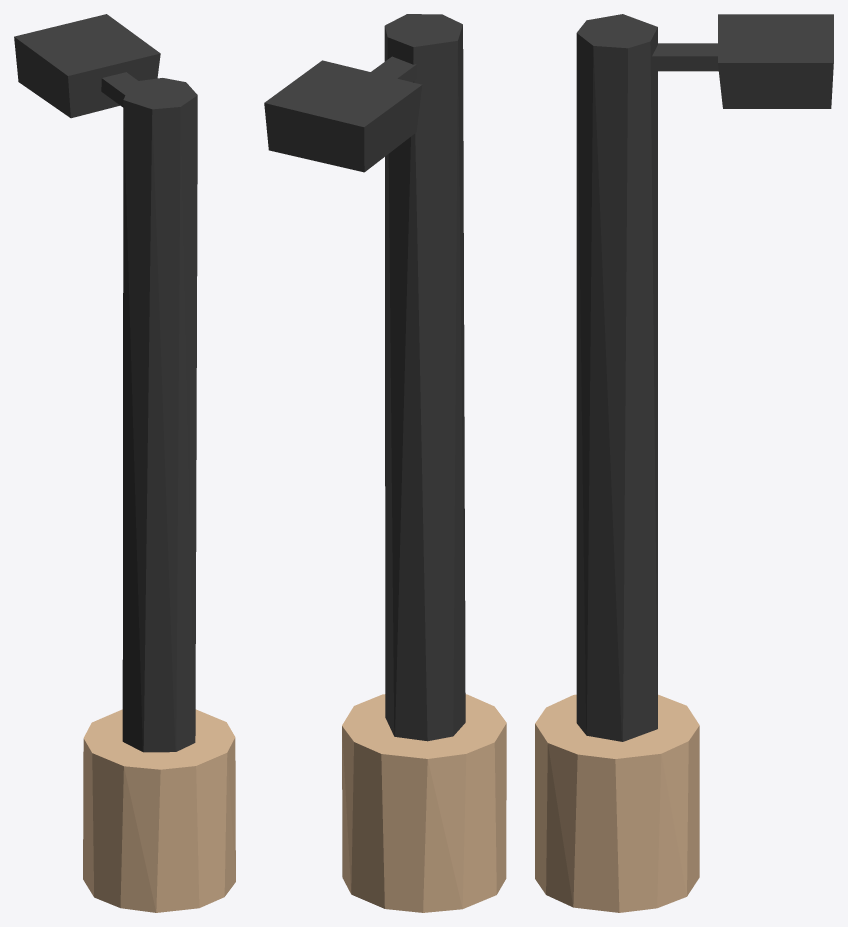
Rendered from Streetlight.glb.
The picture shows the model from 3 angles, left to right: view 1: azimuth 30°, elevation 25°; view 2: azimuth 150°, elevation 25°; view 3: azimuth 270°, elevation 25°; orthographic projection. The views are drawn at different scales.
Parts seen in each view (by area): view 1: Light Pole; view 2: Light Pole; view 3: Light Pole.
Boxes of the visible parts, <box> form: Light Pole: <box>14,14,235,912</box>; Light Pole: <box>264,14,506,912</box>; Light Pole: <box>535,14,833,912</box>.
Size of the model in its own units: 0.8202 by 4.66 by 1.49.
